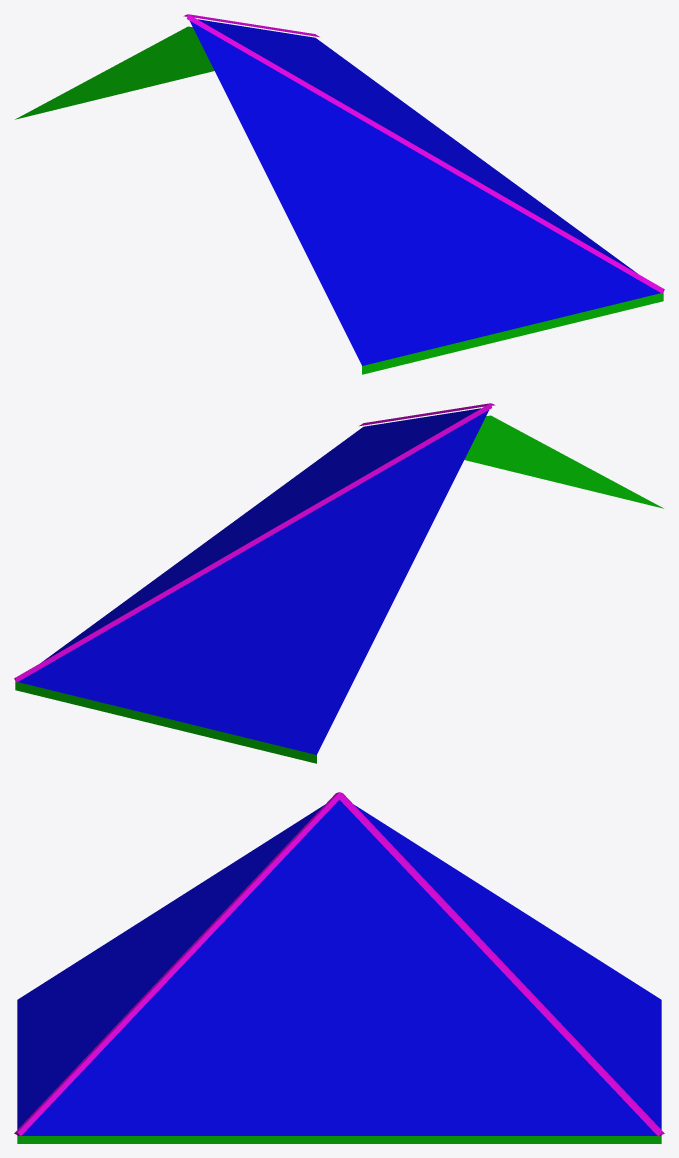
Rendered from roof_hip_end.glb.
3 renders of one model, top to bottom at view 1: azimuth 30°, elevation 25°; view 2: azimuth 150°, elevation 25°; view 3: azimuth 270°, elevation 25°, orthographic. The views are drawn at different scales.
Visible parts, largest first — view 1: roof_hip_end; view 2: roof_hip_end; view 3: roof_hip_end.
Part boxes in pixels (bbox=[...]): roof_hip_end: bbox=[15, 14, 664, 374]; roof_hip_end: bbox=[14, 403, 663, 763]; roof_hip_end: bbox=[14, 792, 664, 1143].
Bounding box in the file's own units: 5.41 × 3.92 × 10.71.
